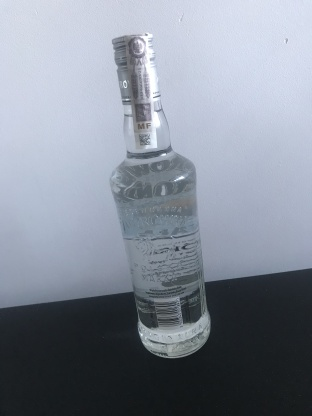nakretka: (109, 29, 162, 109)
